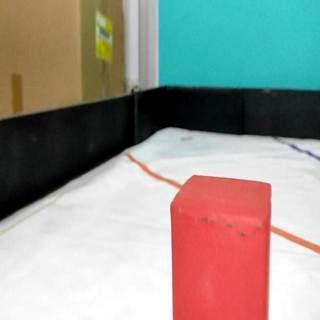redbox: (169, 173, 272, 320)
